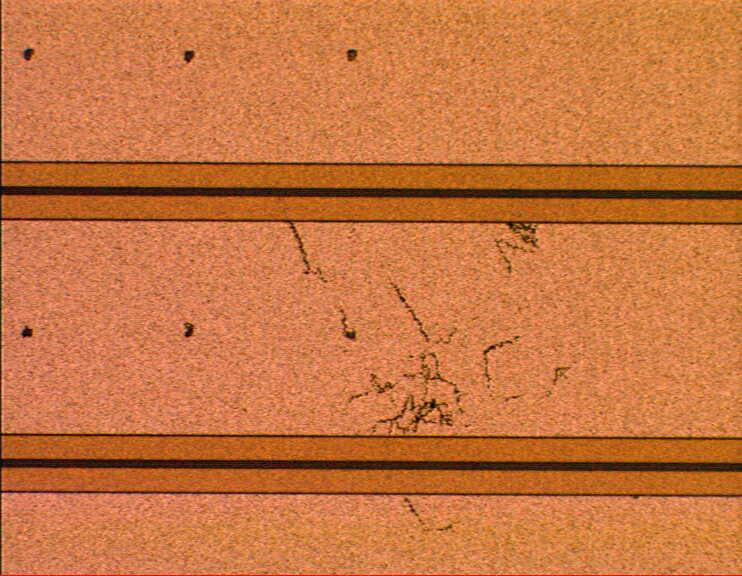SCRATCH: (268, 180, 576, 538)
